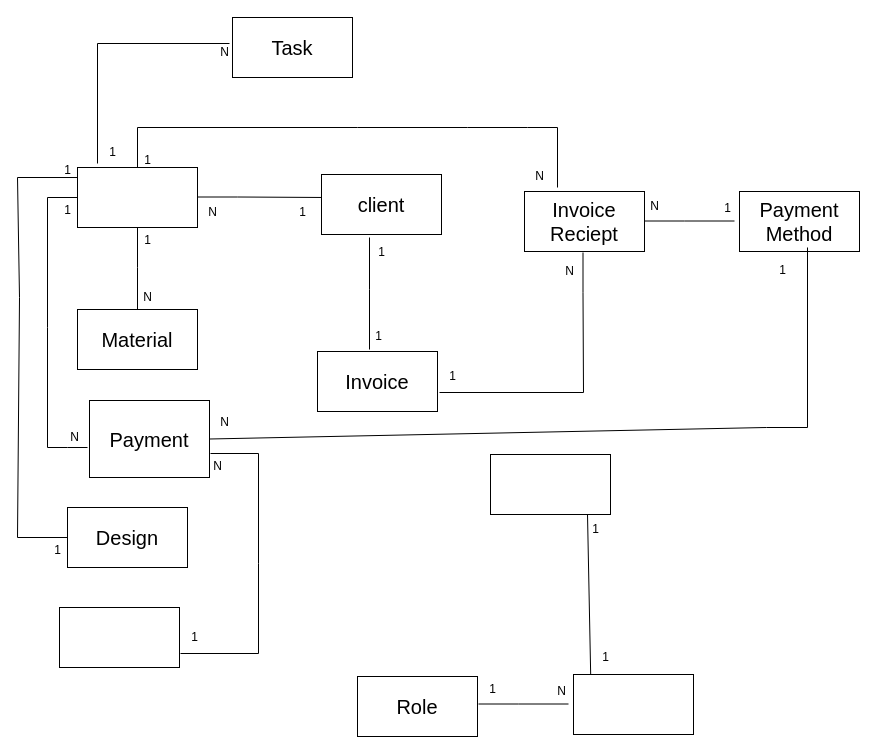
This 877x754 diagram has some shape labels left out. The shapes that lost their labels are listed below. From the top down, each one's centre as x and y in pixels, then its label:
At (x=137, y=197): "Project".
At (x=550, y=484): "Employee".
At (x=119, y=637): "Payment Type".
At (x=633, y=704): "User".
